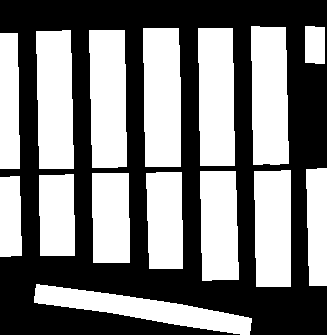parkingspot: (34, 284, 251, 335), (158, 28, 180, 166), (266, 27, 288, 164), (52, 30, 73, 168), (143, 28, 164, 166), (89, 30, 110, 167), (251, 26, 271, 164), (36, 31, 56, 168), (198, 28, 218, 165), (107, 30, 126, 167), (215, 28, 234, 165), (0, 33, 19, 168), (306, 168, 327, 285), (216, 171, 238, 279), (254, 171, 274, 286), (200, 171, 221, 280), (271, 170, 290, 286), (146, 172, 166, 268), (162, 172, 182, 268), (92, 173, 112, 262), (109, 173, 129, 262), (0, 176, 21, 256), (39, 175, 58, 255), (56, 174, 74, 255), (305, 26, 324, 63)
